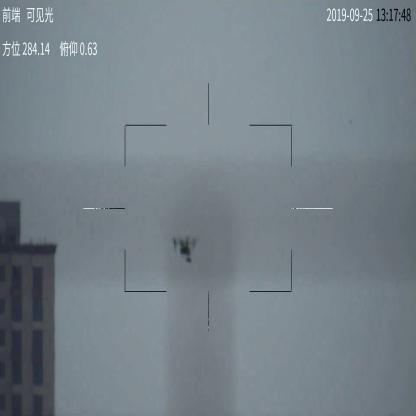uav: (171, 233, 200, 265)
